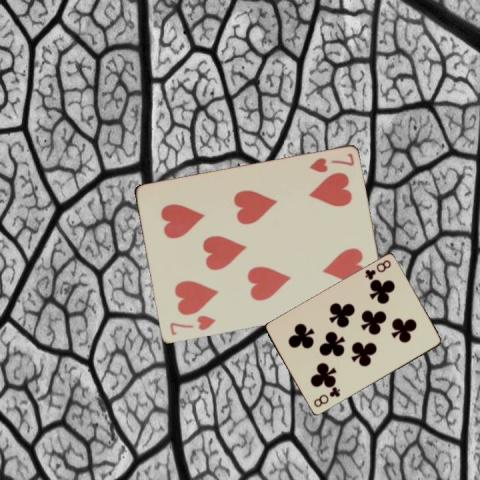7h: (306, 150, 355, 175), (166, 313, 217, 337)
8c: (362, 257, 393, 282), (311, 384, 341, 408)
